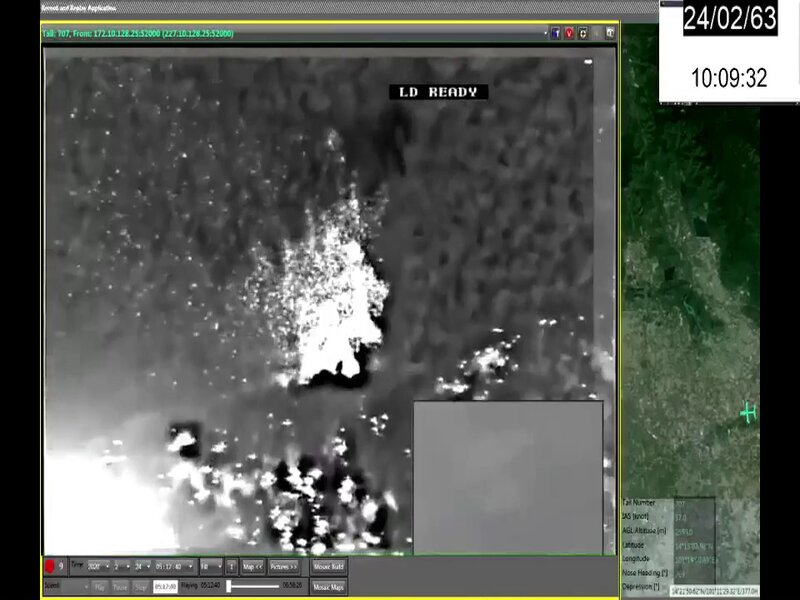Fire: (275, 199, 392, 389)
